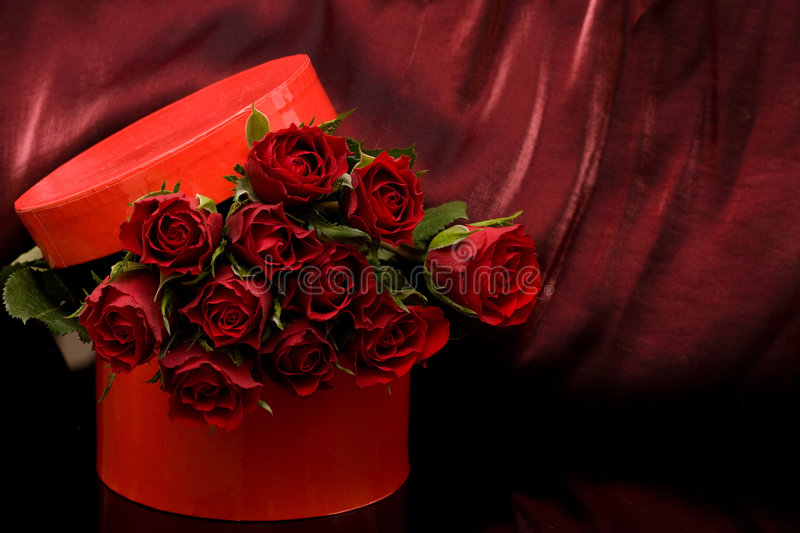RedRose: (417, 219, 547, 334), (364, 292, 441, 384), (172, 345, 256, 428), (242, 133, 368, 186), (91, 285, 165, 367), (146, 191, 211, 268), (359, 159, 426, 225), (206, 281, 276, 335), (312, 247, 370, 305), (284, 331, 329, 405), (225, 210, 281, 247)
